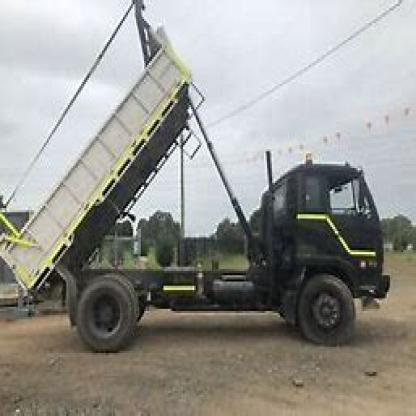dump_truck: (8, 6, 405, 355)
